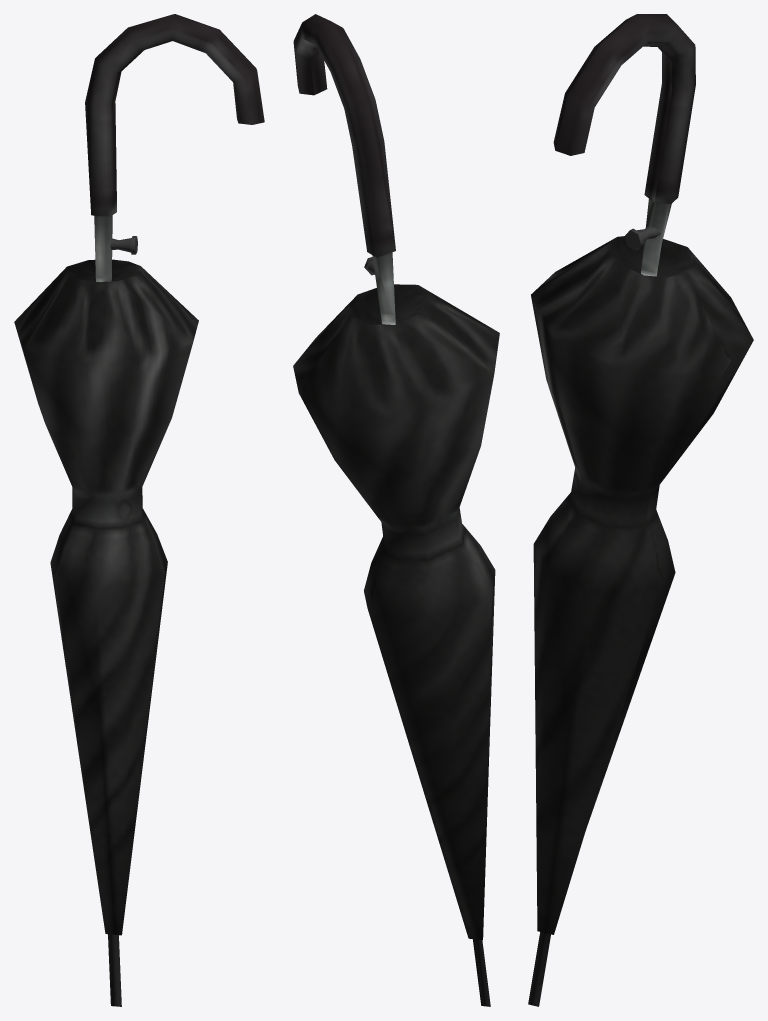
File: XiuXiShi_01_yusan_01.FBX
3 renders of one model, left to right at view 1: azimuth 30°, elevation 25°; view 2: azimuth 150°, elevation 25°; view 3: azimuth 270°, elevation 25°, orthographic. The views are drawn at different scales.
Visible parts, largest first — view 1: Object004; view 2: Object004; view 3: Object004.
Boxes of the visible parts, box(x1,y1,x2,y2) form: Object004: box(14, 14, 264, 1006); Object004: box(293, 14, 499, 1006); Object004: box(528, 14, 753, 1006).
Bounding box in the file's own units: 107 × 452 × 88.36.
